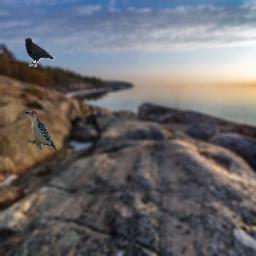Crow: (25, 38, 55, 67)
Woodpecker: (24, 110, 57, 150)
